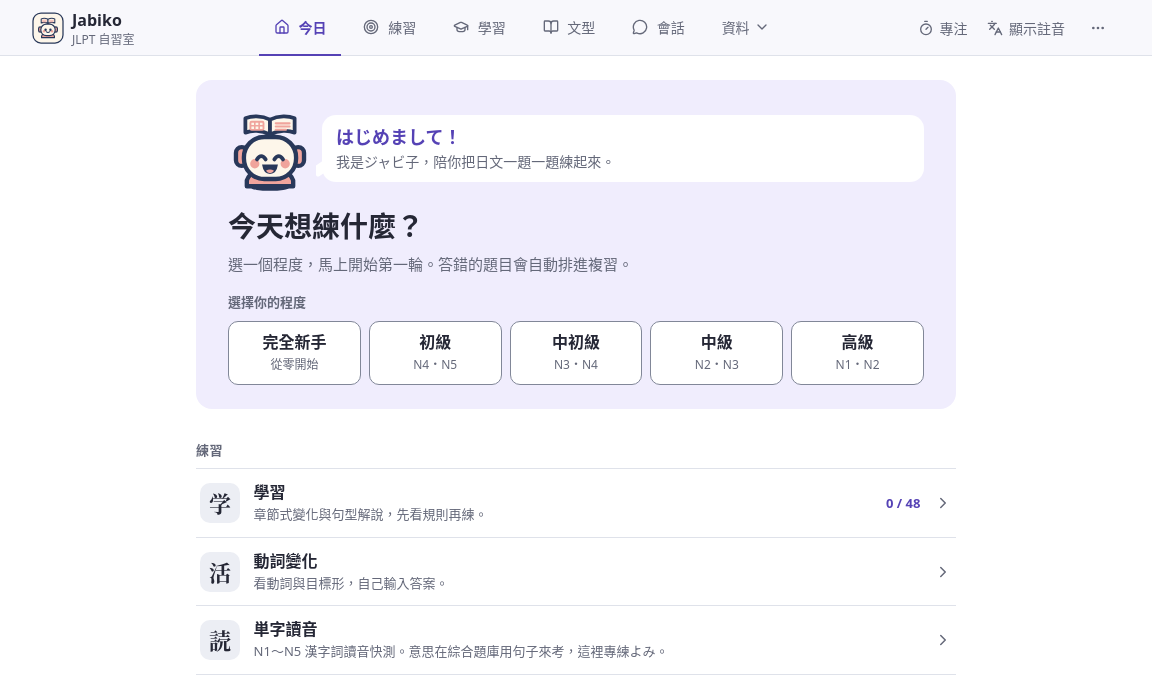
App Focus Mode (#771) › opens exactly one Break surface when focus expires
The width and height of the screenshot is (1152, 675).
Click the button "專注". click: point(943, 28)
box: [909,6,976,50]
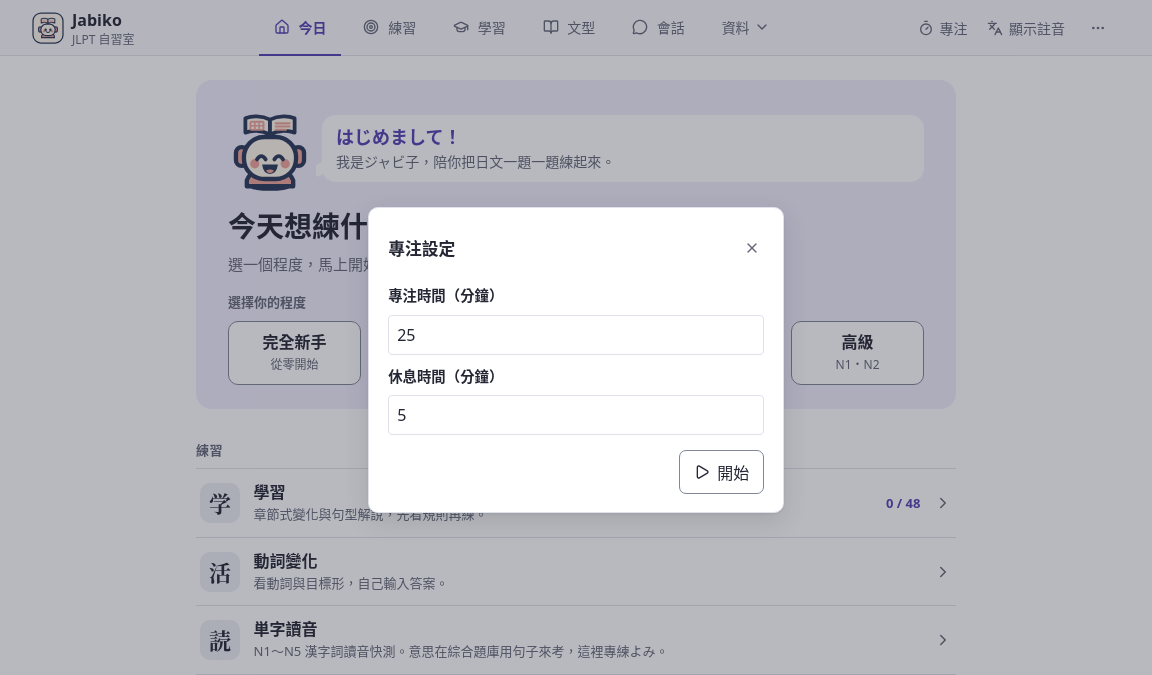
Click the button "開始". click: point(722, 472)
box: [679,450,764,494]
Wait 1560000 ms
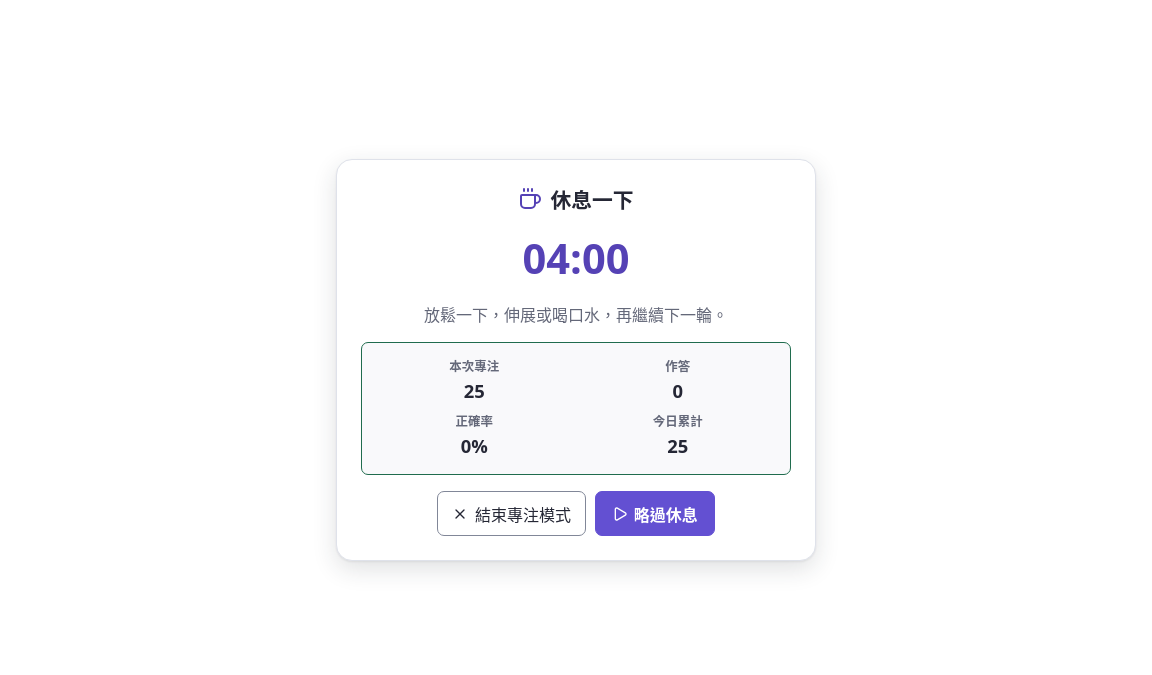
Result: the dialog "休息一下" is shown at [336,159,816,561]
